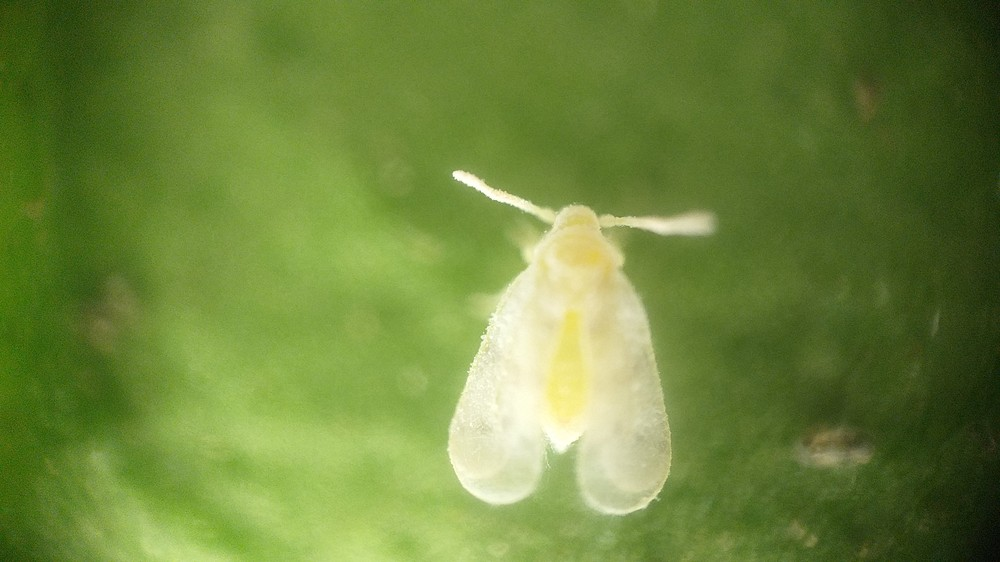Mosca Blanca: (430, 154, 737, 533)
